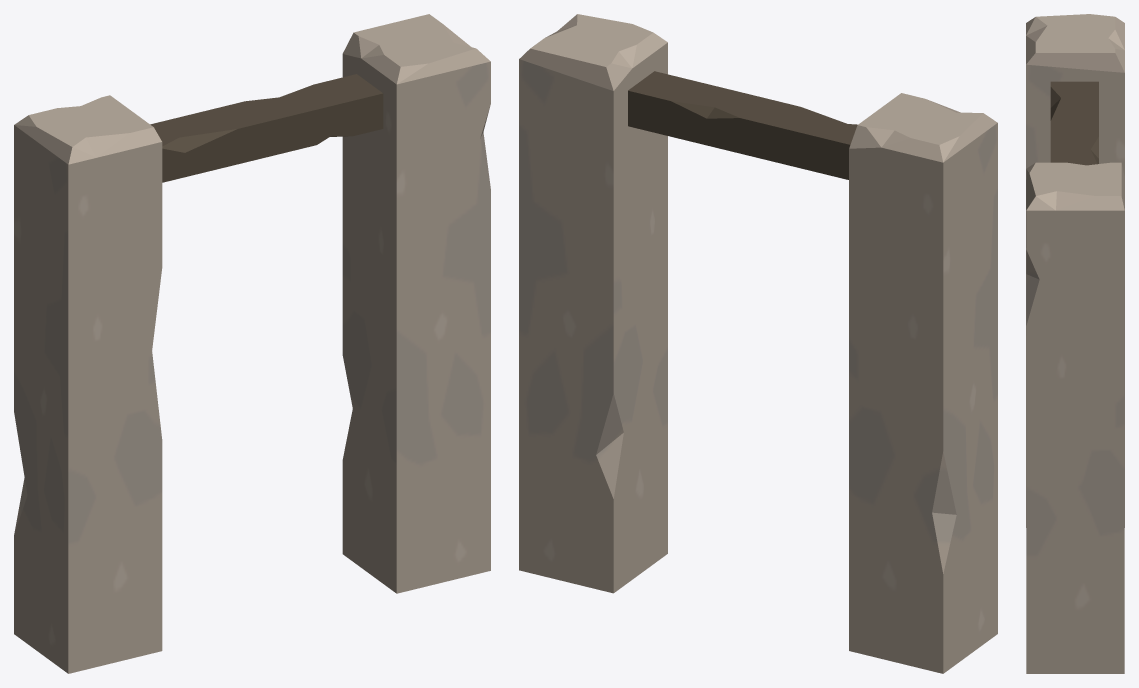
The model's file is SM_Bld_Village_Wall_Gate_01.fbx.
3 renders of one model, left to right at view 1: azimuth 30°, elevation 25°; view 2: azimuth 150°, elevation 25°; view 3: azimuth 270°, elevation 25°, orthographic. The views are drawn at different scales.
Visible parts, largest first — view 1: SM_Bld_Village_Wall_Gate_01; view 2: SM_Bld_Village_Wall_Gate_01; view 3: SM_Bld_Village_Wall_Gate_01.
Boxes of the visible parts, box(x1,y1,x2,y2) form: SM_Bld_Village_Wall_Gate_01: box(14, 14, 490, 673); SM_Bld_Village_Wall_Gate_01: box(519, 14, 997, 673); SM_Bld_Village_Wall_Gate_01: box(1026, 14, 1124, 673).
Size of the model in its own units: 271 by 319 by 60.35.
